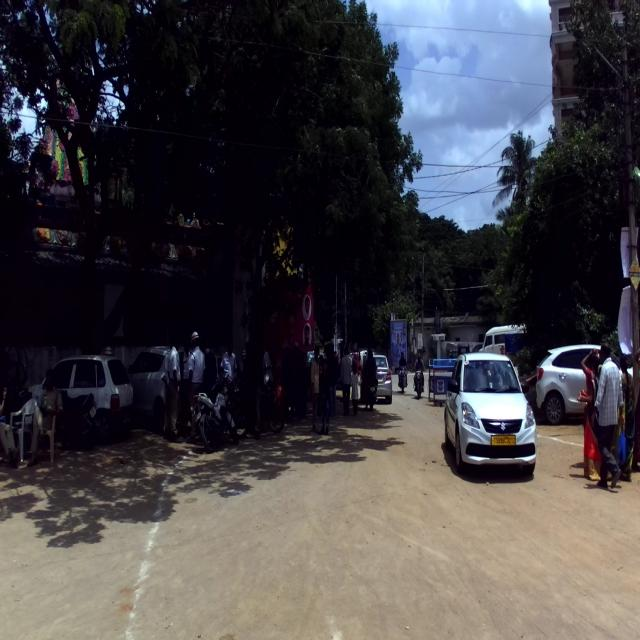Car_Maruti-Suzuki: (444, 352, 536, 484), (26, 354, 133, 445), (534, 344, 633, 433), (125, 345, 190, 436)
motorcycle: (193, 372, 238, 454), (55, 389, 97, 450)
motorcycle_Hero: (232, 379, 286, 443)
